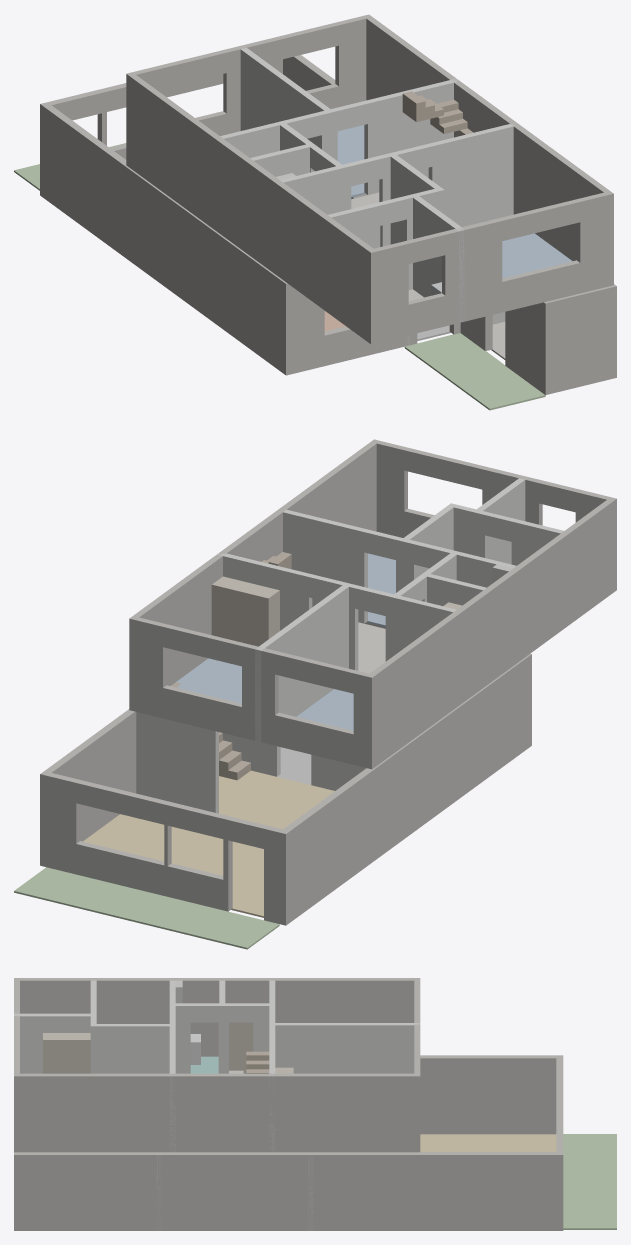
Rendered from PROP_1008.glb.
3 views of the same model, one above another, from view 1: azimuth 30°, elevation 25°; view 2: azimuth 150°, elevation 25°; view 3: azimuth 270°, elevation 25° (orthographic). The views are drawn at different scales.
Parts seen in each view (by area): view 1: L1_wall_F1_W0, L0_wall_F0_W5, L1_wall_F1_W3, L1_wall_F1_W5, L1_wall_F1_W2, L1_wall_F1_W1, L1_wall_F1_W4, L0_wall_F0_W2, L0_floor_F0_R0_0, L0_wall_F0_W0, L1_wall_F1_W11, L0_wall_F0_W1 (+11 smaller); view 2: L1_wall_F1_W0, L0_wall_F0_W5, L1_wall_F1_W1, L0_wall_F0_W4, L0_floor_F0_R2_0, L1_wall_F1_W2, L1_wall_F1_W5, L1_wall_F1_W3, L0_floor_F0_R3_0, L1_wall_F1_W4, L0_wall_F0_W12, L1_wall_F1_W11 (+17 smaller); view 3: L0_wall_F0_W3, L1_wall_F1_W2, L1_wall_F1_W0, L0_wall_F0_W5, L1_wall_F1_W11, L0_floor_F0_R3_0, L1_wall_F1_W6, L1_wall_F1_W9, L0_floor_F0_R2_0, L1_wall_F1_W8, L1_fixture_F1_X11, L1_wall_F1_W5 (+9 smaller).
Part boxes in pixels (box(x1,y1,x2,y2)): L1_wall_F1_W0: box(126, 73, 373, 343); L0_wall_F0_W5: box(40, 104, 286, 374); L1_wall_F1_W3: box(371, 192, 613, 344); L1_wall_F1_W5: box(280, 123, 515, 246); L1_wall_F1_W2: box(366, 14, 613, 260); L1_wall_F1_W1: box(127, 14, 368, 135); L1_wall_F1_W4: box(220, 78, 459, 194); L0_wall_F0_W2: box(545, 285, 616, 394); L0_floor_F0_R0_0: box(404, 333, 545, 410); L0_wall_F0_W0: box(286, 283, 460, 375); L1_wall_F1_W11: box(237, 45, 333, 150); L0_wall_F0_W1: box(460, 301, 546, 394); L1_wall_F1_W0: box(369, 498, 616, 769); L0_wall_F0_W5: box(283, 654, 531, 925); L1_wall_F1_W1: box(129, 617, 371, 769); L0_wall_F0_W4: box(40, 773, 285, 925); L0_floor_F0_R2_0: box(83, 770, 334, 917); L1_wall_F1_W2: box(129, 439, 376, 685); L1_wall_F1_W5: box(283, 509, 516, 623); L1_wall_F1_W3: box(374, 439, 615, 537); L0_floor_F0_R3_0: box(14, 867, 279, 949); L1_wall_F1_W4: box(217, 553, 456, 670); L0_wall_F0_W12: box(136, 712, 218, 813); L1_wall_F1_W11: box(255, 583, 351, 742); L0_wall_F0_W3: box(14, 1152, 563, 1230); L1_wall_F1_W2: box(14, 1073, 420, 1152); L1_wall_F1_W0: box(14, 978, 419, 1056); L0_wall_F0_W5: box(420, 1055, 562, 1134); L1_wall_F1_W11: box(275, 1023, 420, 1073); L0_floor_F0_R3_0: box(563, 1134, 616, 1229); L1_wall_F1_W6: box(90, 1024, 169, 1073); L1_wall_F1_W9: box(175, 1003, 269, 1073); L0_floor_F0_R2_0: box(420, 1134, 556, 1151); L1_wall_F1_W8: box(14, 1013, 90, 1073); L1_fixture_F1_X11: box(43, 1033, 75, 1073); L1_wall_F1_W5: box(169, 980, 175, 1151).
Bounding box in the file's own units: 7.59 × 5.55 × 19.42.
